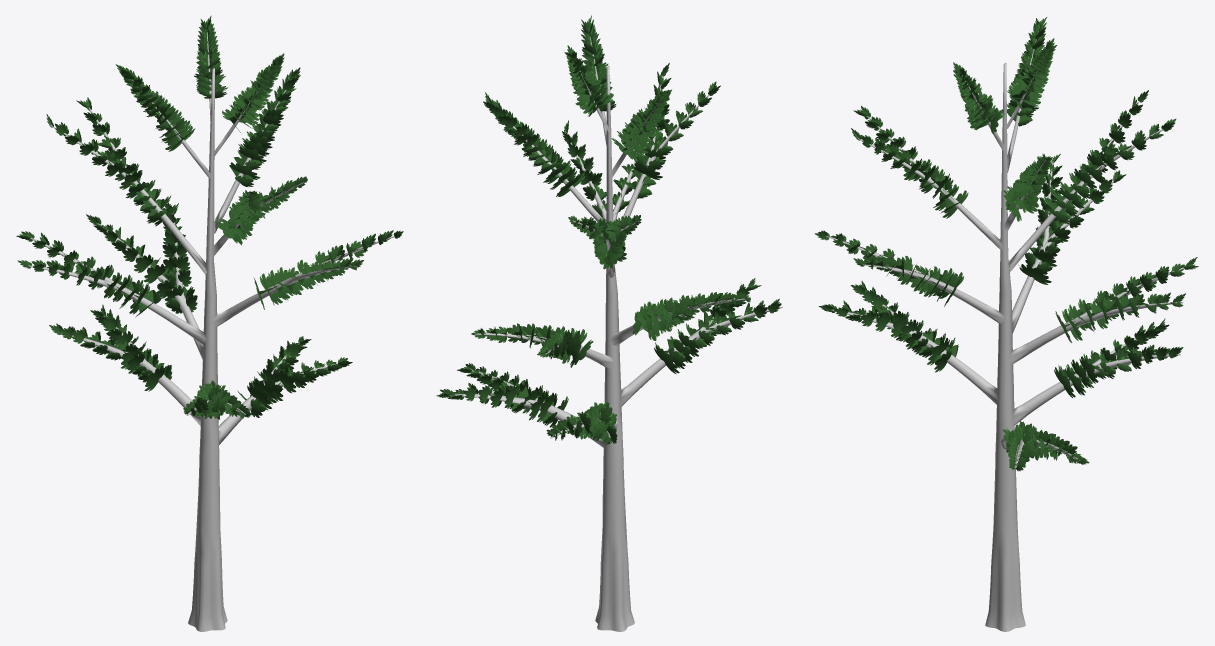
Rendered from Tree_1.obj.
3 renders of one model, left to right at view 1: azimuth 30°, elevation 25°; view 2: azimuth 150°, elevation 25°; view 3: azimuth 270°, elevation 25°, orthographic.
Visible parts, largest first — view 1: ..\..\projects\godot\ludum_dare49\res\assets\textures\leaf\sprit, sys/tree it/no texture; view 2: ..\..\projects\godot\ludum_dare49\res\assets\textures\leaf\sprit, sys/tree it/no texture; view 3: ..\..\projects\godot\ludum_dare49\res\assets\textures\leaf\sprit, sys/tree it/no texture.
Boxes of the visible parts, x1,y1,x2,y2 form: ..\..\projects\godot\ludum_dare49\res\assets\textures\leaf\sprit: (16, 15, 403, 419); sys/tree it/no texture: (28, 32, 394, 631); ..\..\projects\godot\ludum_dare49\res\assets\textures\leaf\sprit: (436, 15, 781, 444); sys/tree it/no texture: (448, 28, 782, 631); ..\..\projects\godot\ludum_dare49\res\assets\textures\leaf\sprit: (814, 17, 1198, 471); sys/tree it/no texture: (818, 27, 1184, 631).
Bounding box in the file's own units: 239 × 425 × 250.
